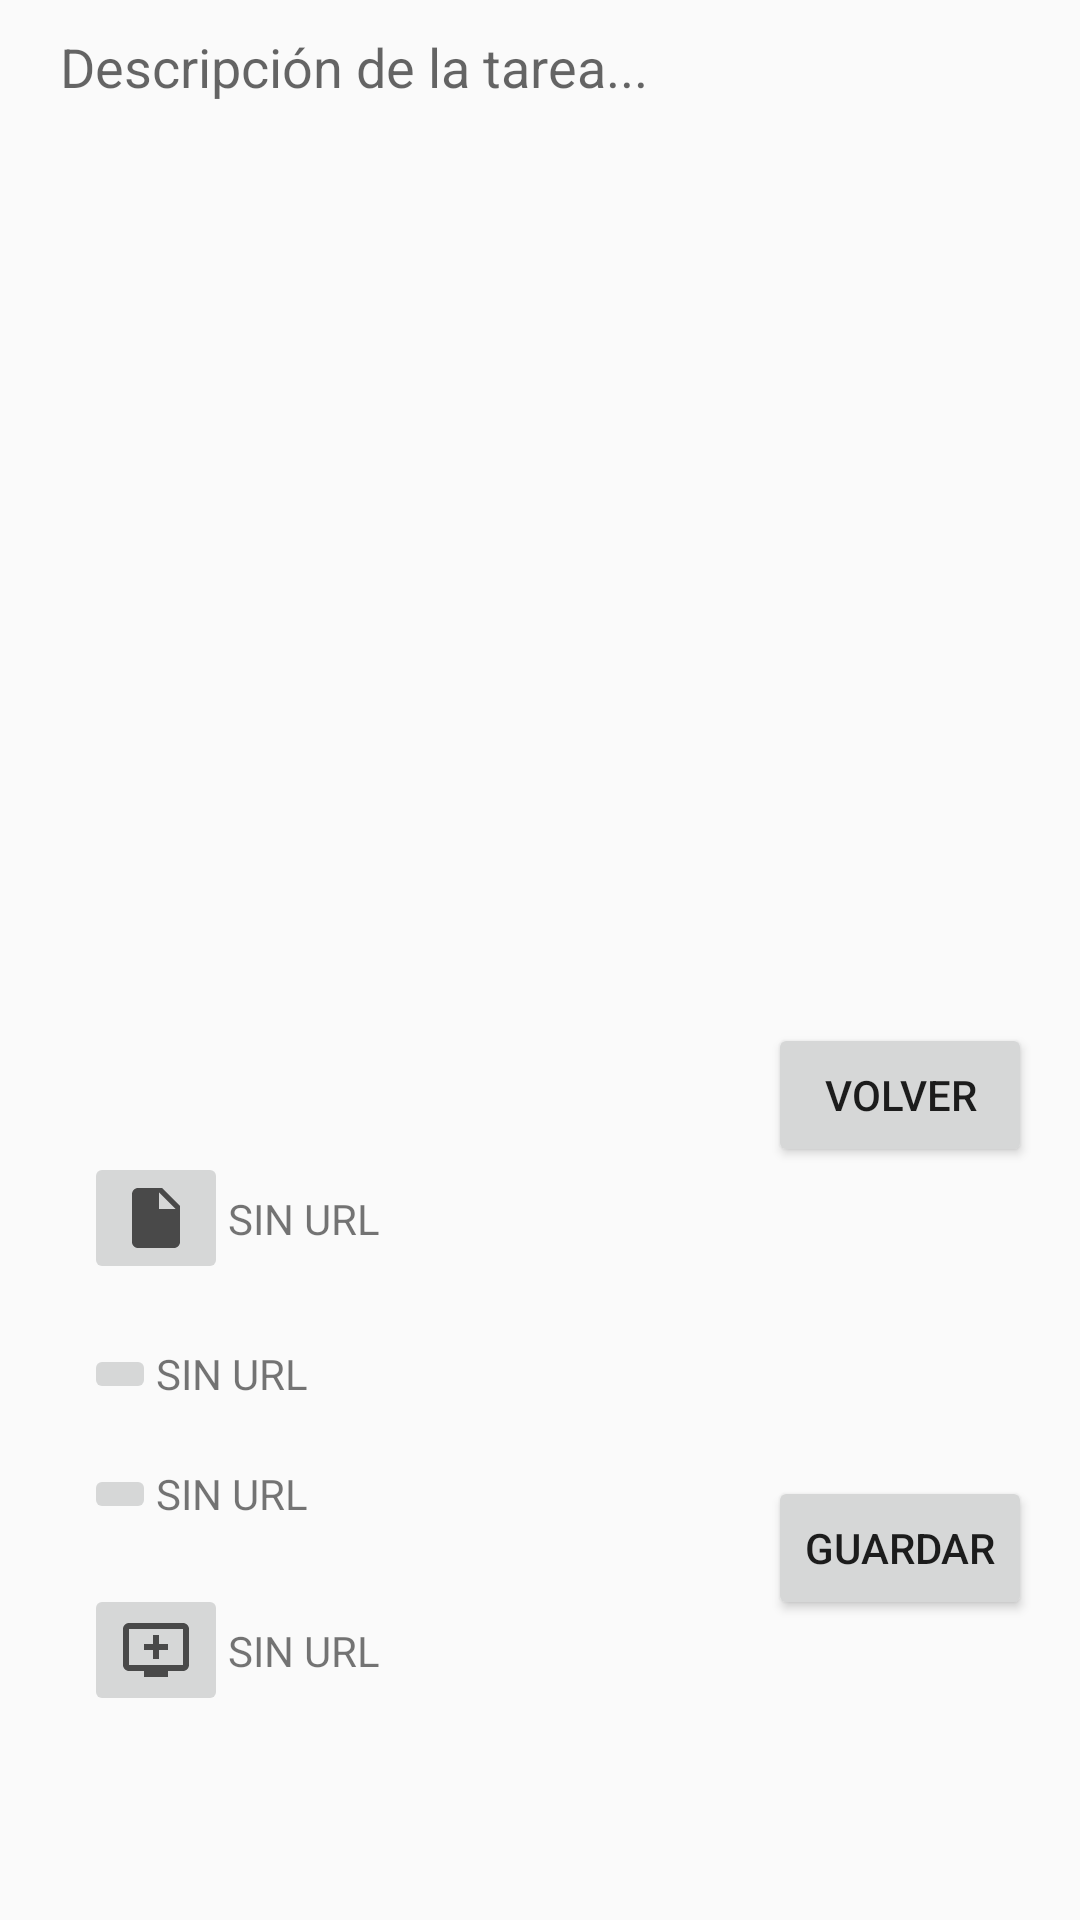

Screen size 1080 x 1920. Icon name, then its center in pixels as [x,y]:
add to queue: [156,1650]
insert drive file: [156,1218]
